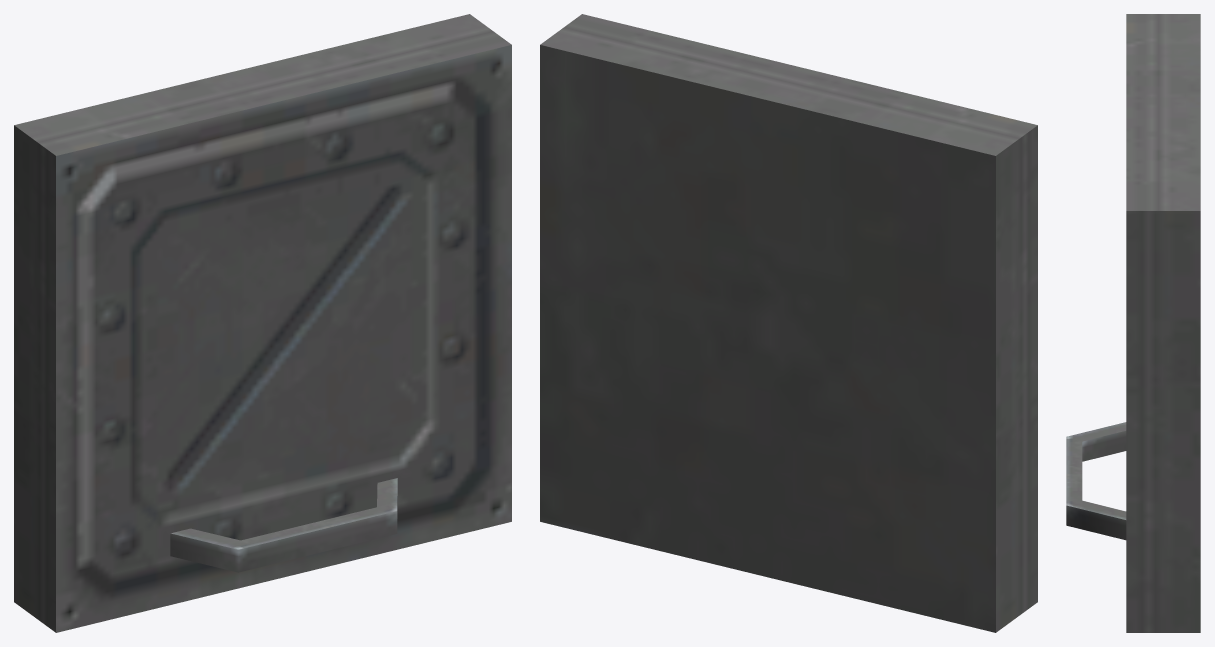
File: hatch.obj
3 renders of one model, left to right at view 1: azimuth 30°, elevation 25°; view 2: azimuth 150°, elevation 25°; view 3: azimuth 270°, elevation 25°, orthographic. The views are drawn at different scales.
Parts seen in each view (by area): view 1: hatch; view 2: hatch; view 3: hatch.
Part boxes in pixels (box(x1,y1,x2,y2)): hatch: box(14, 14, 511, 632); hatch: box(540, 14, 1037, 632); hatch: box(1066, 14, 1200, 632).
Size of the model in its own units: 1 by 1 by 0.2885.
1 material, 1 textured.
